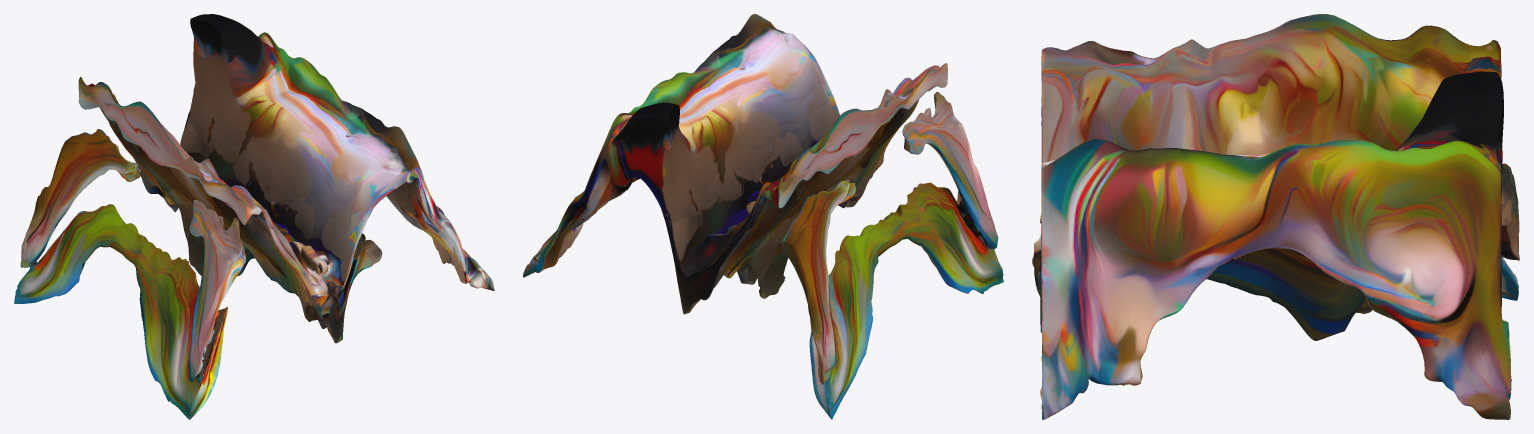
The picture shows the model from 3 angles, left to right: view 1: azimuth 30°, elevation 25°; view 2: azimuth 150°, elevation 25°; view 3: azimuth 270°, elevation 25°; orthographic projection. The views are drawn at different scales.
Parts seen in each view (by area): view 1: model; view 2: model; view 3: model.
Part boxes in pixels (x1,y1,x2,y2): model: (14,14,494,419); model: (523,14,1003,419); model: (1032,14,1519,419).
Bounding box in the file's own units: 62193 × 48550 × 61988.
1 material, 1 textured.
